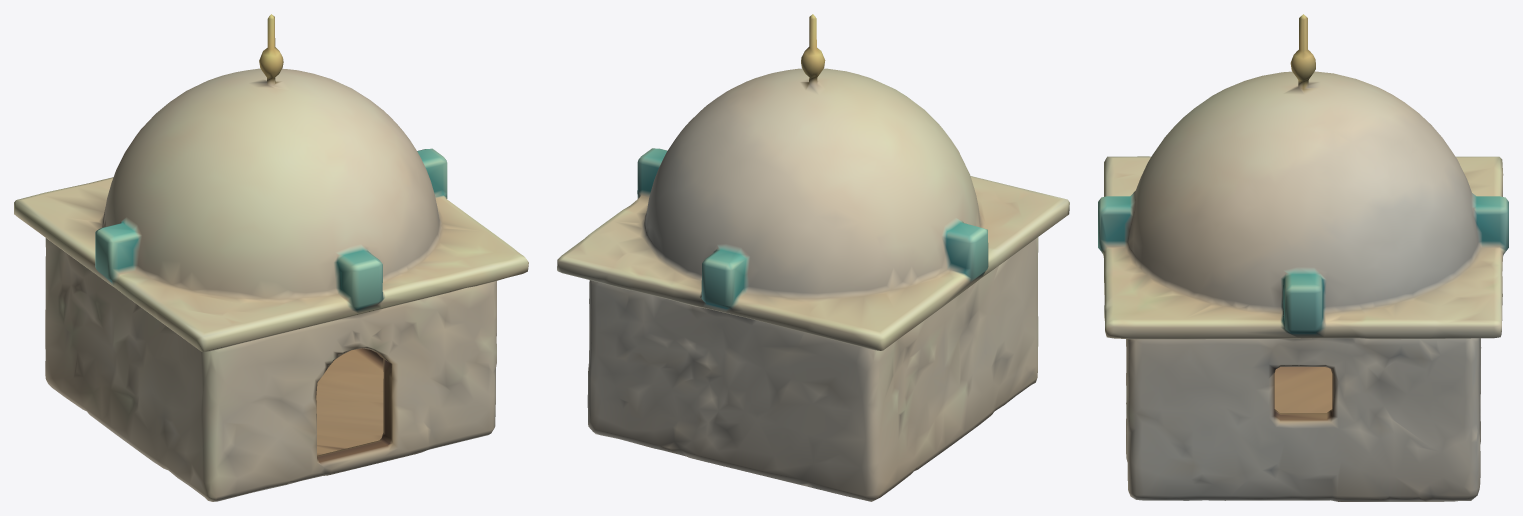
File: env_se_dome_house.glb
3 renders of one model, left to right at view 1: azimuth 30°, elevation 25°; view 2: azimuth 150°, elevation 25°; view 3: azimuth 270°, elevation 25°, orthographic. The views are drawn at different scales.
Parts seen in each view (by area): view 1: geometry_0; view 2: geometry_0; view 3: geometry_0.
Boxes of the visible parts, x1,y1,x2,y2 form: geometry_0: [14, 14, 528, 501]; geometry_0: [557, 14, 1069, 501]; geometry_0: [1098, 14, 1508, 501].
Bounding box in the file's own units: 6.4 × 7.17 × 6.4.
